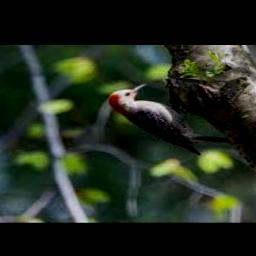Woodpecker: (110, 82, 232, 155)
